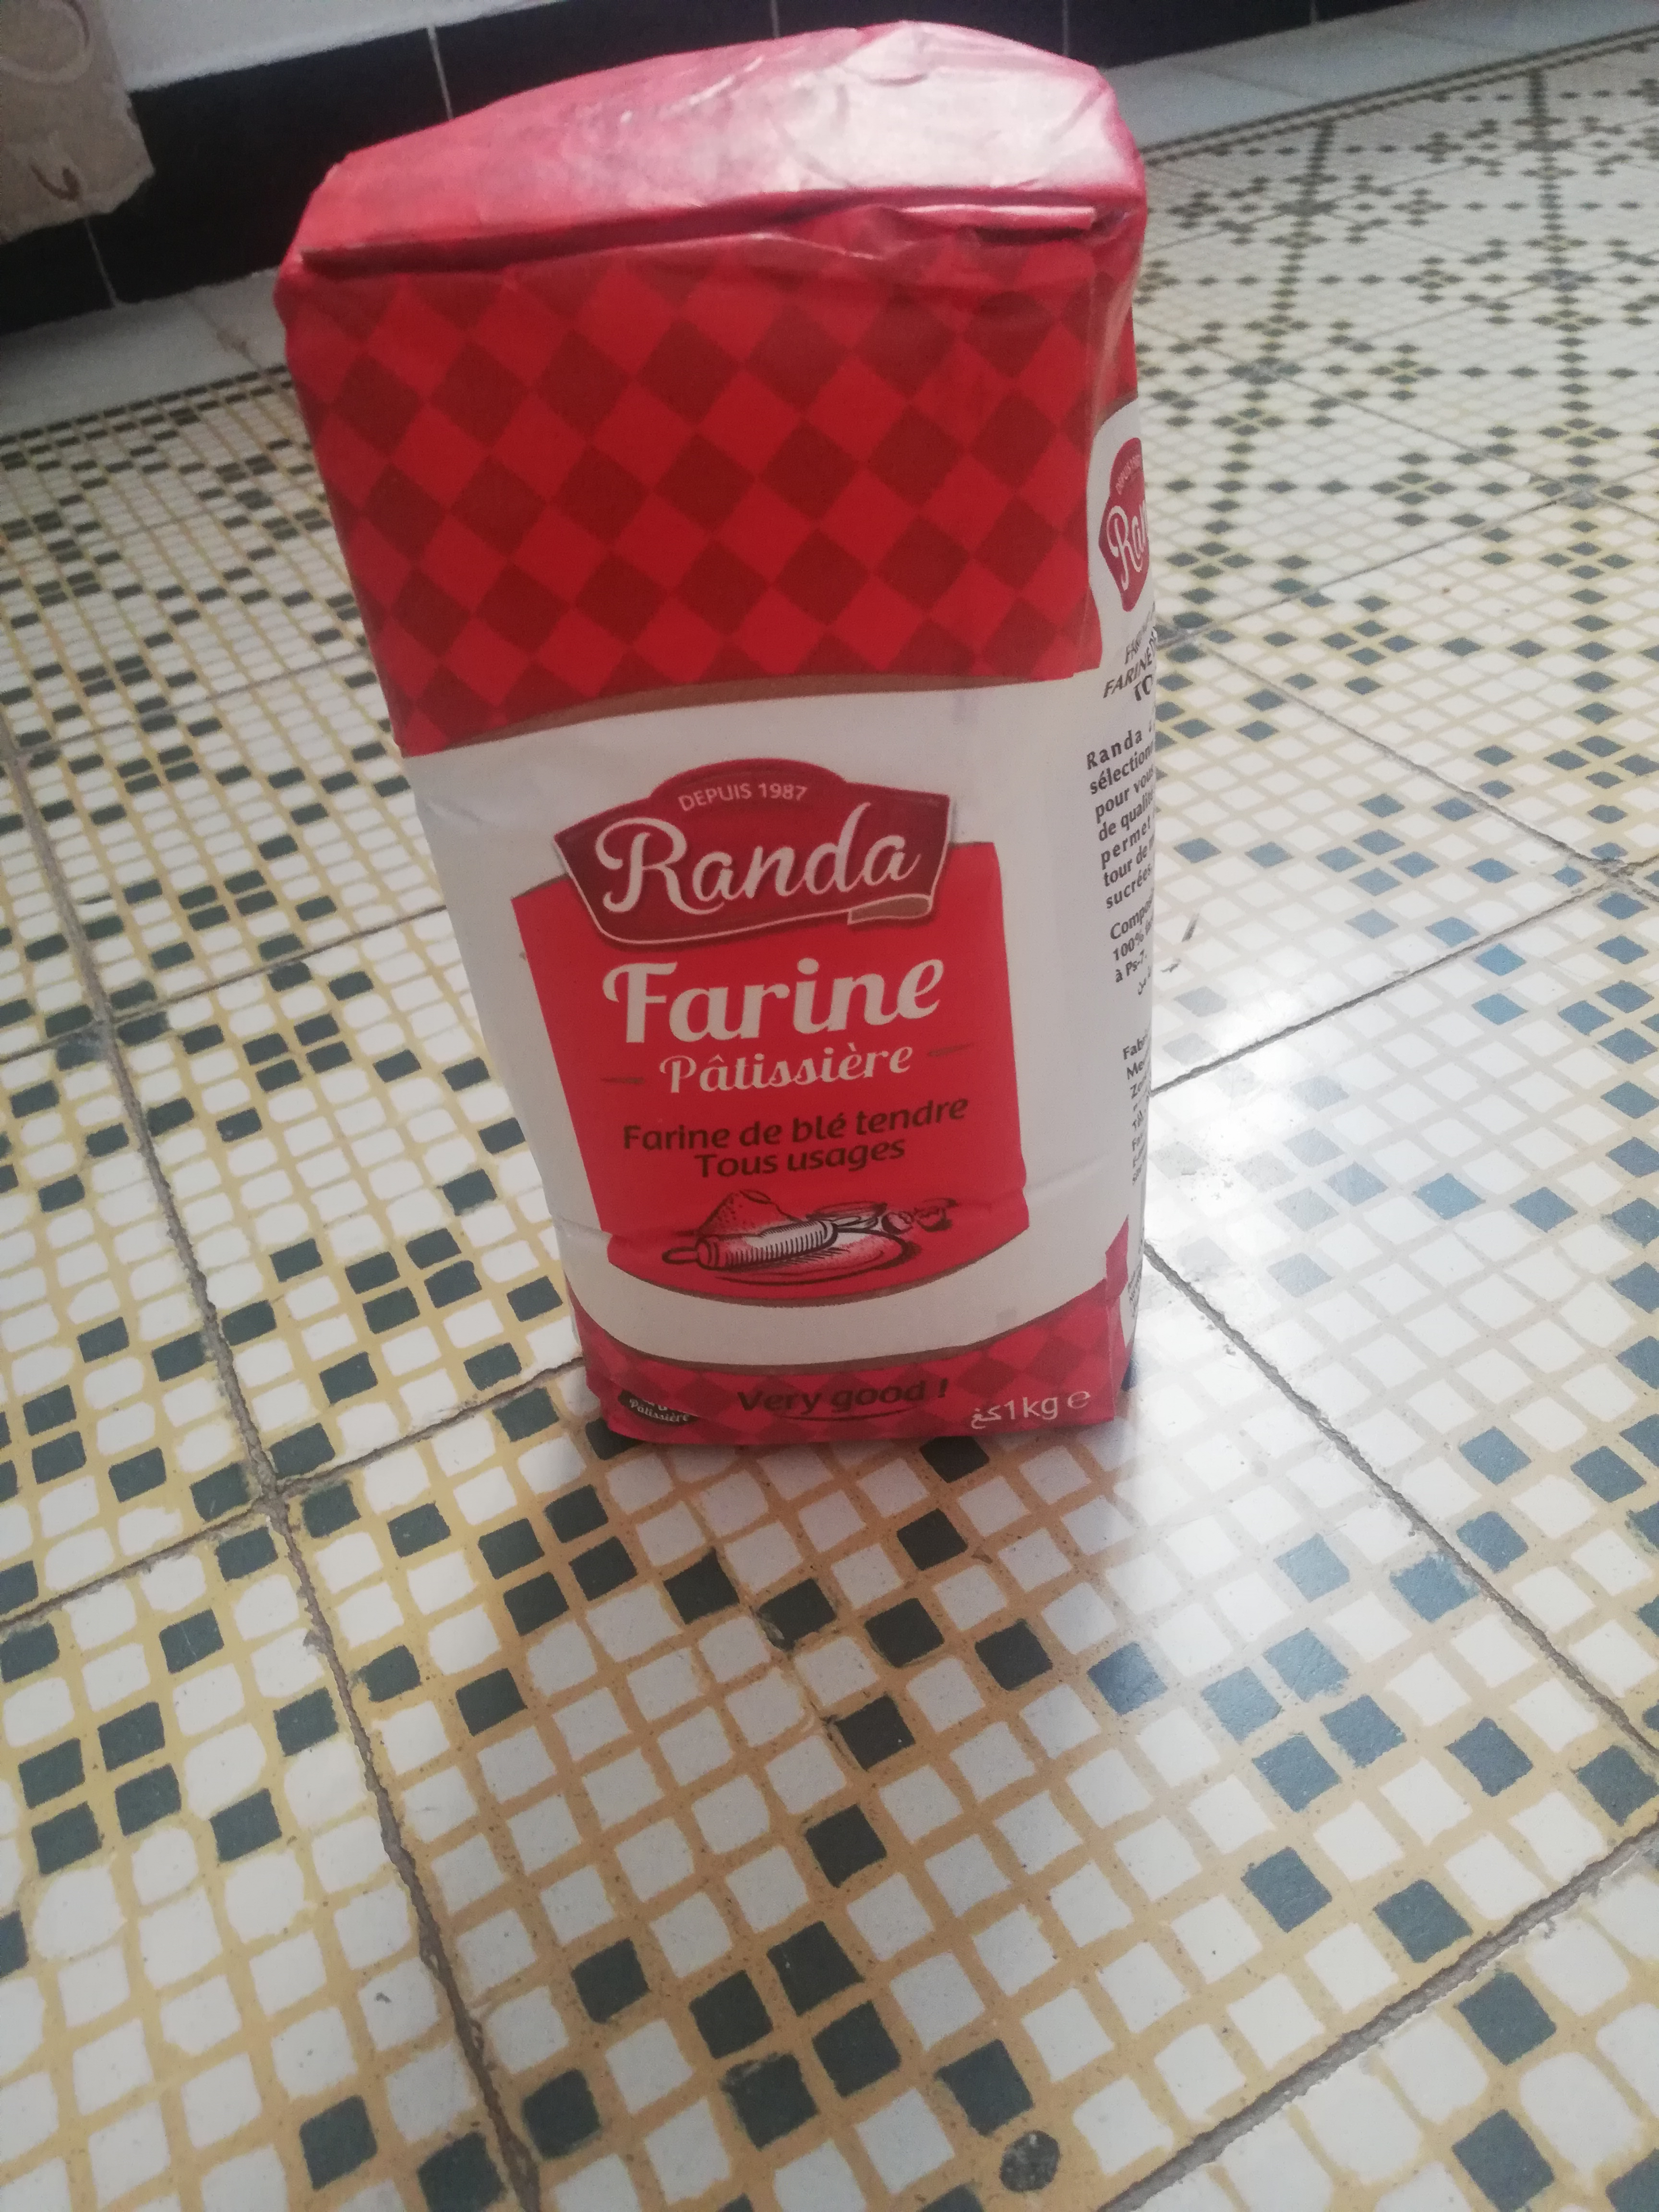Farine Randa: (270, 70, 1138, 1439)
